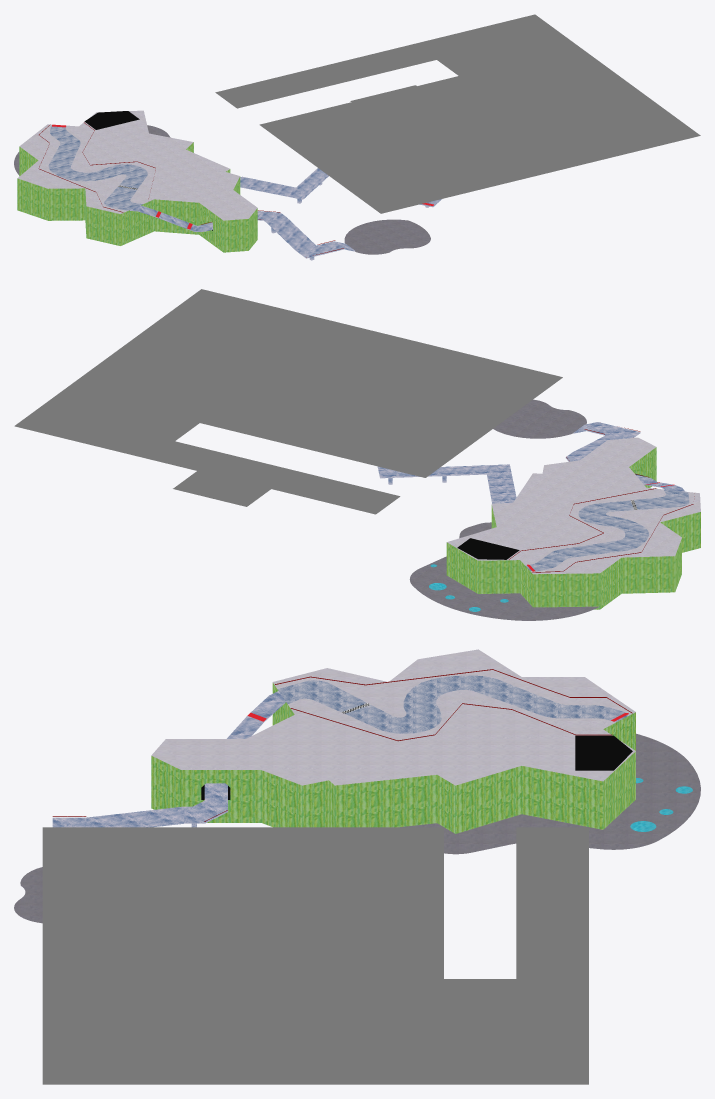
3 renders of one model, top to bottom at view 1: azimuth 30°, elevation 25°; view 2: azimuth 150°, elevation 25°; view 3: azimuth 270°, elevation 25°, orthographic. The views are drawn at different scales.
Parts seen in each view (by area): view 1: polygon889, polygon412, polygon2.006, polygon87, polygon5.007, polygon16.003, polygon1009; view 2: polygon889, polygon412, polygon2.006, polygon16.003, polygon5.007, polygon87, polygon1009; view 3: polygon889, polygon412, polygon2.006, polygon16.003, polygon5.007, polygon87, polygon1009, polygon315.
Boxes of the visible parts, bbox=[...] form: polygon889: bbox=[215, 14, 700, 213]; polygon412: bbox=[18, 110, 257, 220]; polygon2.006: bbox=[17, 142, 257, 252]; polygon87: bbox=[129, 168, 441, 260]; polygon5.007: bbox=[48, 126, 147, 210]; polygon16.003: bbox=[14, 125, 430, 254]; polygon1009: bbox=[84, 111, 212, 230]; polygon889: bbox=[14, 289, 562, 514]; polygon412: bbox=[447, 437, 700, 574]; polygon2.006: bbox=[446, 447, 700, 609]; polygon16.003: bbox=[409, 399, 599, 620]; polygon5.007: bbox=[525, 489, 689, 571]; polygon87: bbox=[377, 422, 684, 503]; polygon1009: bbox=[457, 474, 643, 559]; polygon889: bbox=[42, 827, 588, 1084]; polygon412: bbox=[151, 649, 635, 785]; polygon2.006: bbox=[151, 683, 635, 833]; polygon16.003: bbox=[14, 733, 700, 923]; polygon5.007: bbox=[277, 675, 629, 733]; polygon87: bbox=[52, 691, 285, 827]; polygon1009: bbox=[201, 735, 632, 799]; polygon315: bbox=[52, 669, 632, 821].
Size of what is drawn, in the model's own units: 132170 by 8584 by 86582.
Materials: 11 (11 with a texture image).
